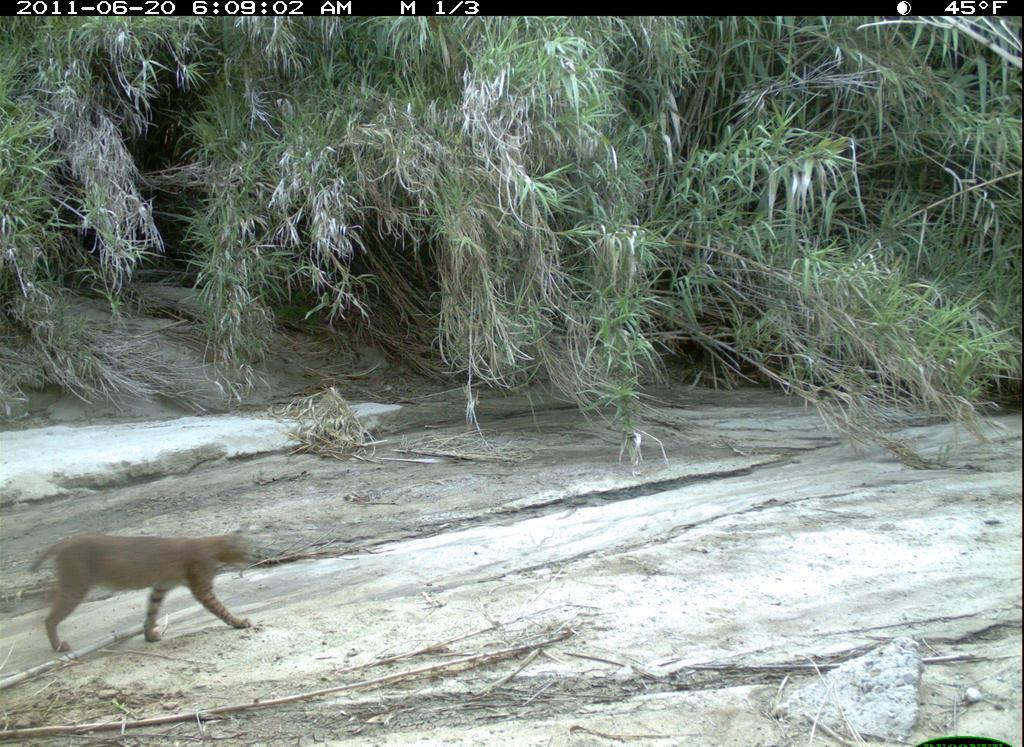bobcat: (17, 511, 285, 665)
